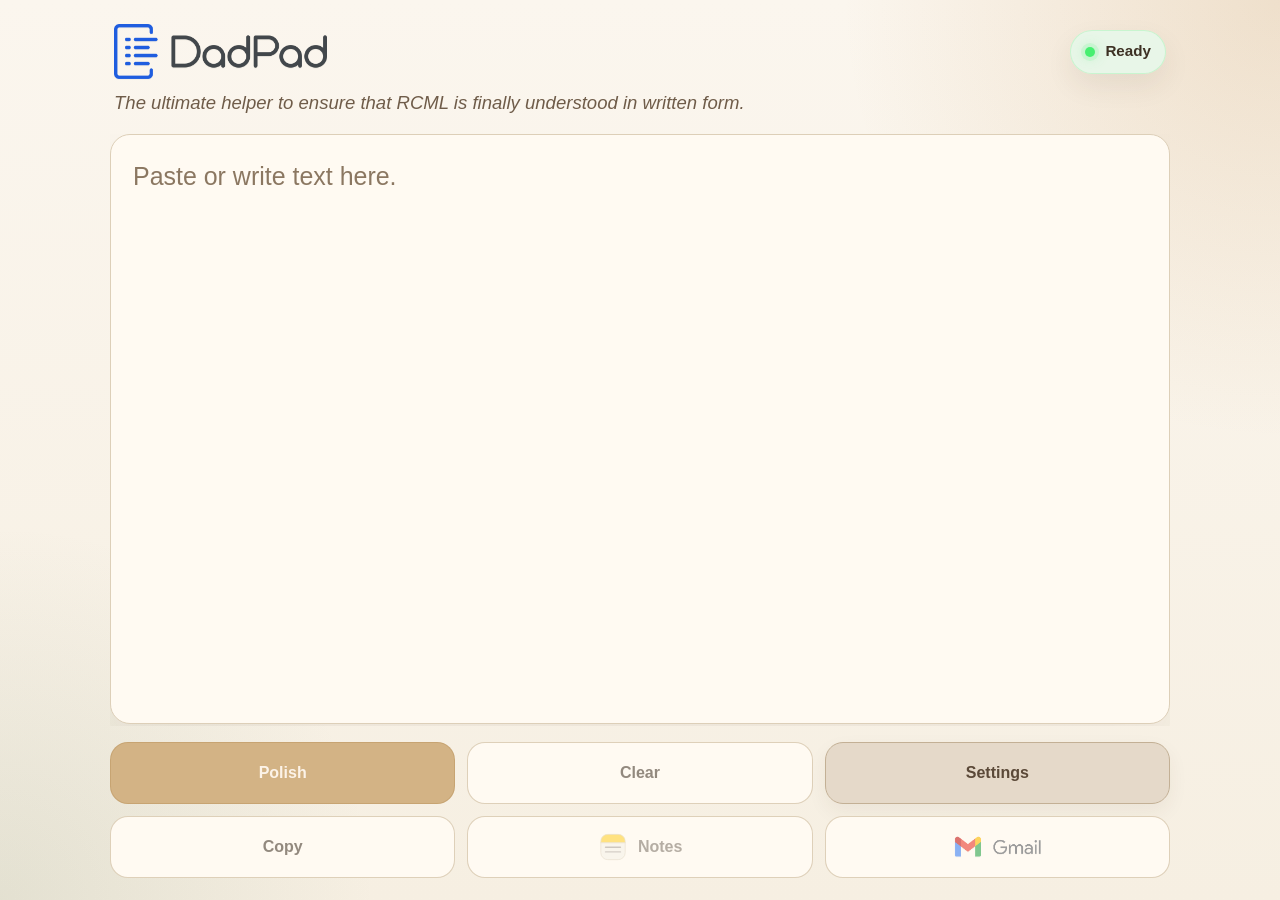
Test: DadPad app › streams a Polish transform into the single editor
Step 1. Type "rough draft" into the text box named "Your text" → (640, 429), box top-left (110, 134), bottom-right (1170, 724)
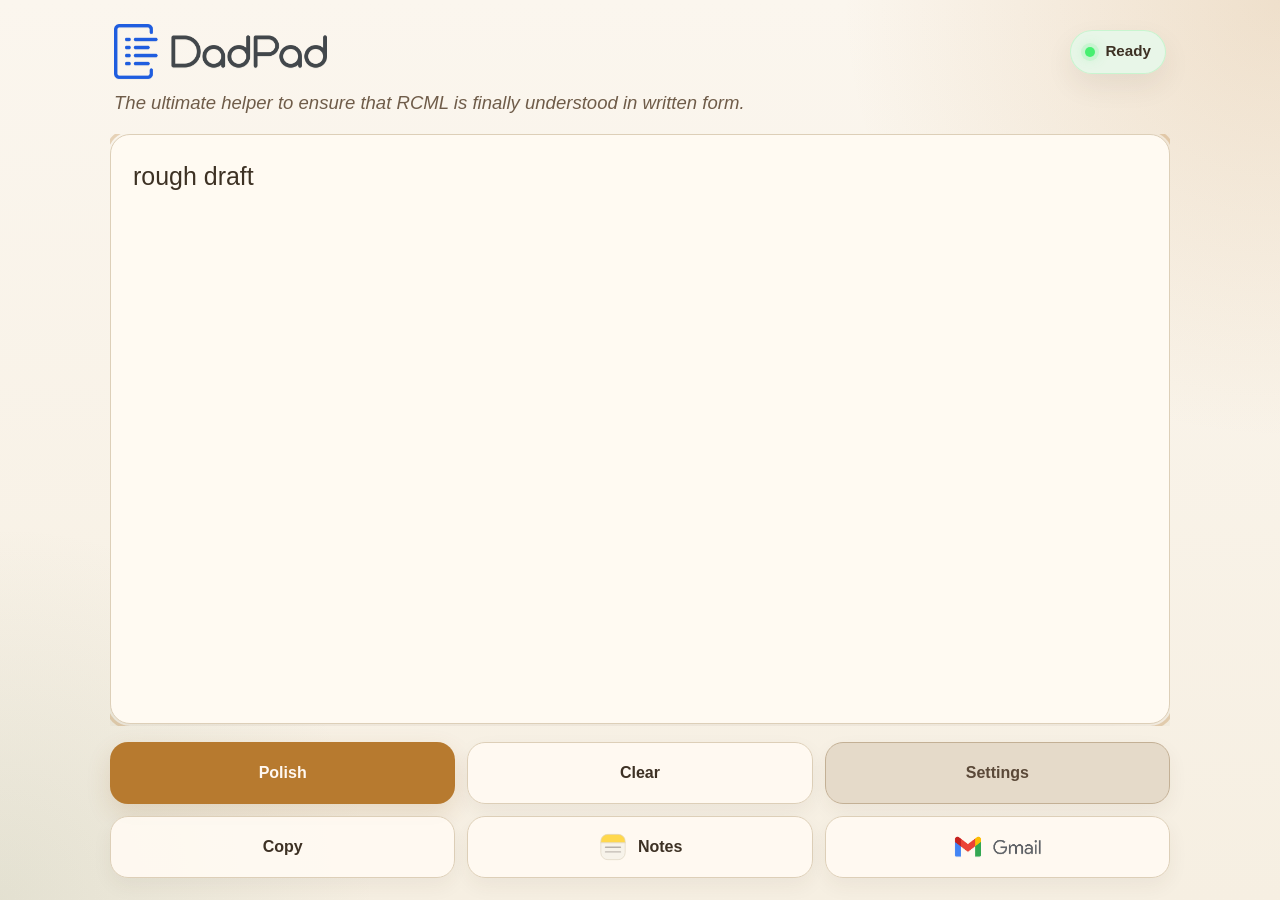
Step 2. Click the button "Polish" → (283, 773), box top-left (110, 742), bottom-right (455, 804)
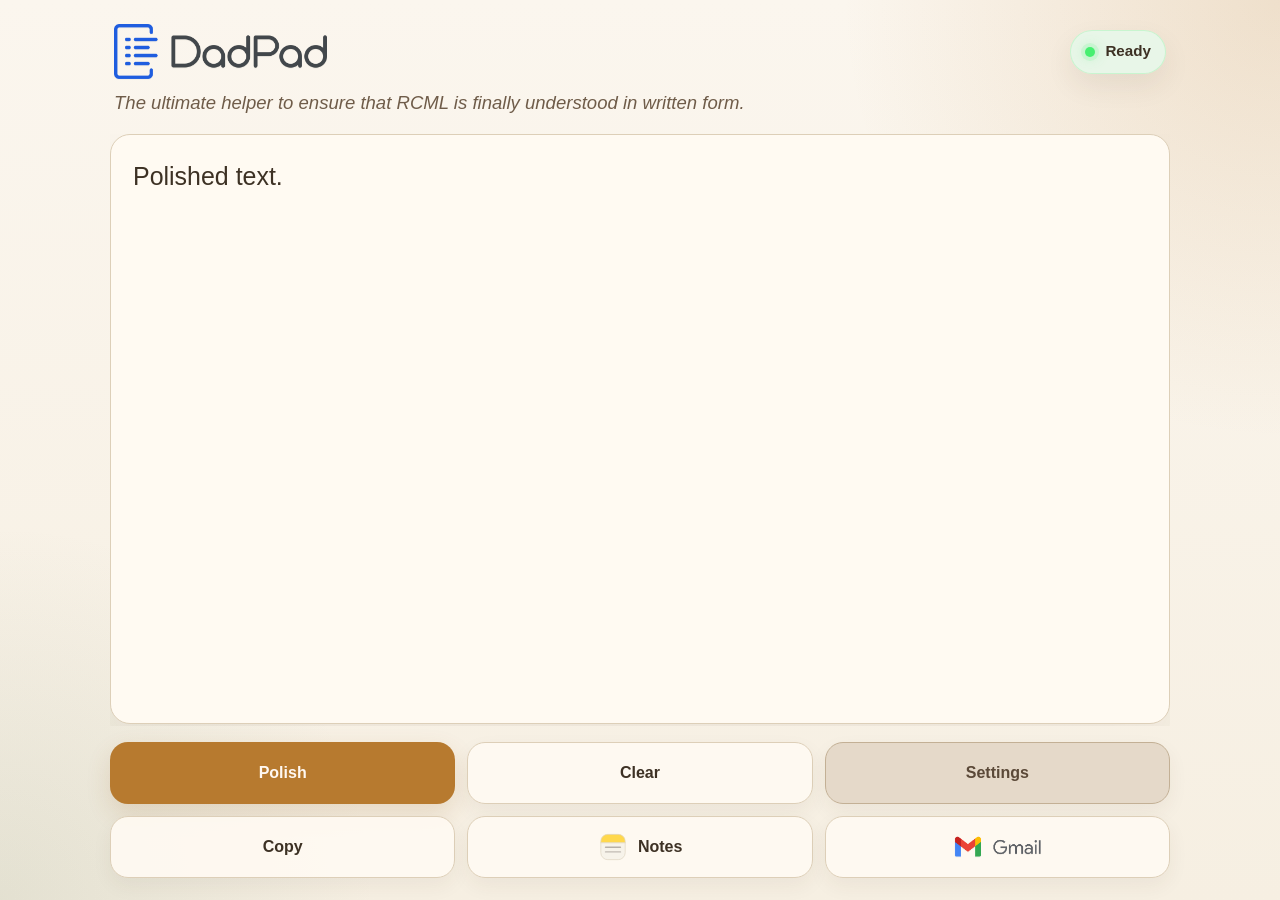
Check: the element with class "status-chip" reads "Ready", box top-left (1105, 42), bottom-right (1151, 59)
Check: the text box named "Your text" holds "Polished text.", box top-left (110, 134), bottom-right (1170, 724)
